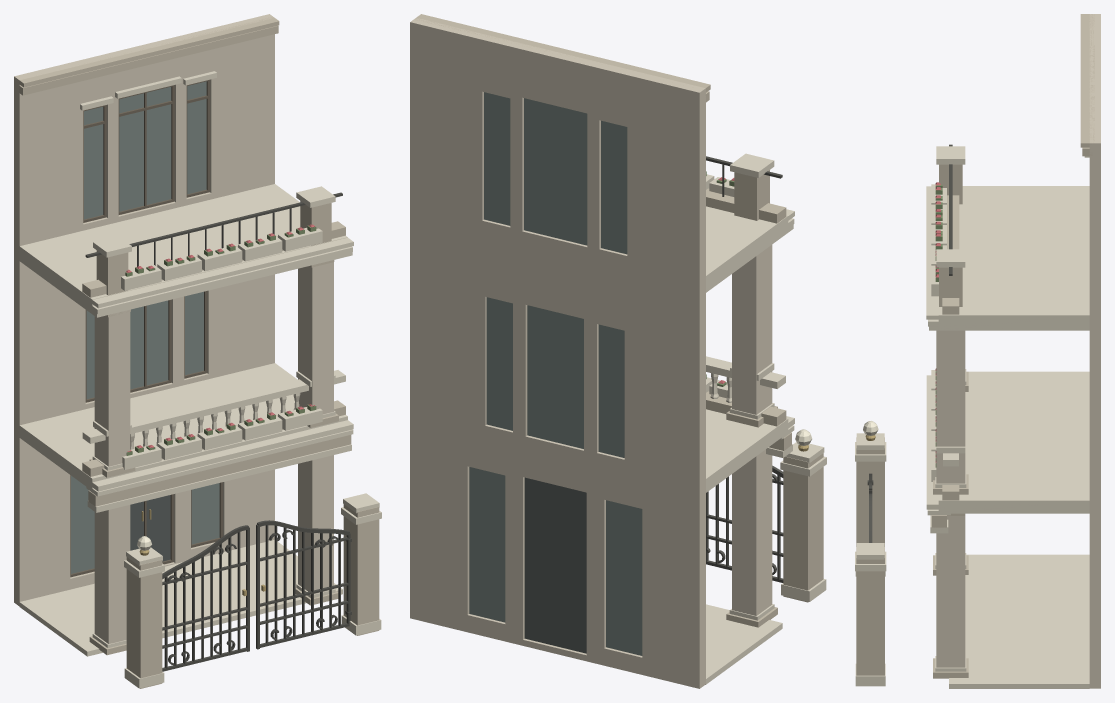
Rendered from huangpu-sino-german-hospital-courtyard-loggia-lod.glb.
The picture shows the model from 3 angles, left to right: view 1: azimuth 30°, elevation 25°; view 2: azimuth 150°, elevation 25°; view 3: azimuth 270°, elevation 25°; orthographic projection. The views are drawn at different scales.
Parts seen in each view (by area): view 1: 中德医院旧址庭院中央门廊与露台; view 2: 中德医院旧址庭院中央门廊与露台; view 3: 中德医院旧址庭院中央门廊与露台.
Part boxes in pixels (x1,y1,x2,y2): 中德医院旧址庭院中央门廊与露台: [14, 14, 381, 688]; 中德医院旧址庭院中央门廊与露台: [410, 14, 826, 688]; 中德医院旧址庭院中央门廊与露台: [855, 14, 1100, 688].
Bounding box in the file's own units: 6.48 × 12.8 × 5.21.
